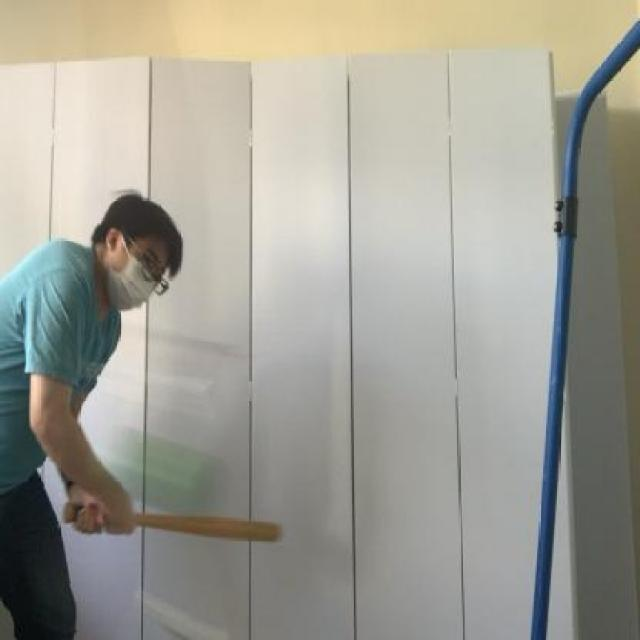baseball: (102, 412, 218, 520)
